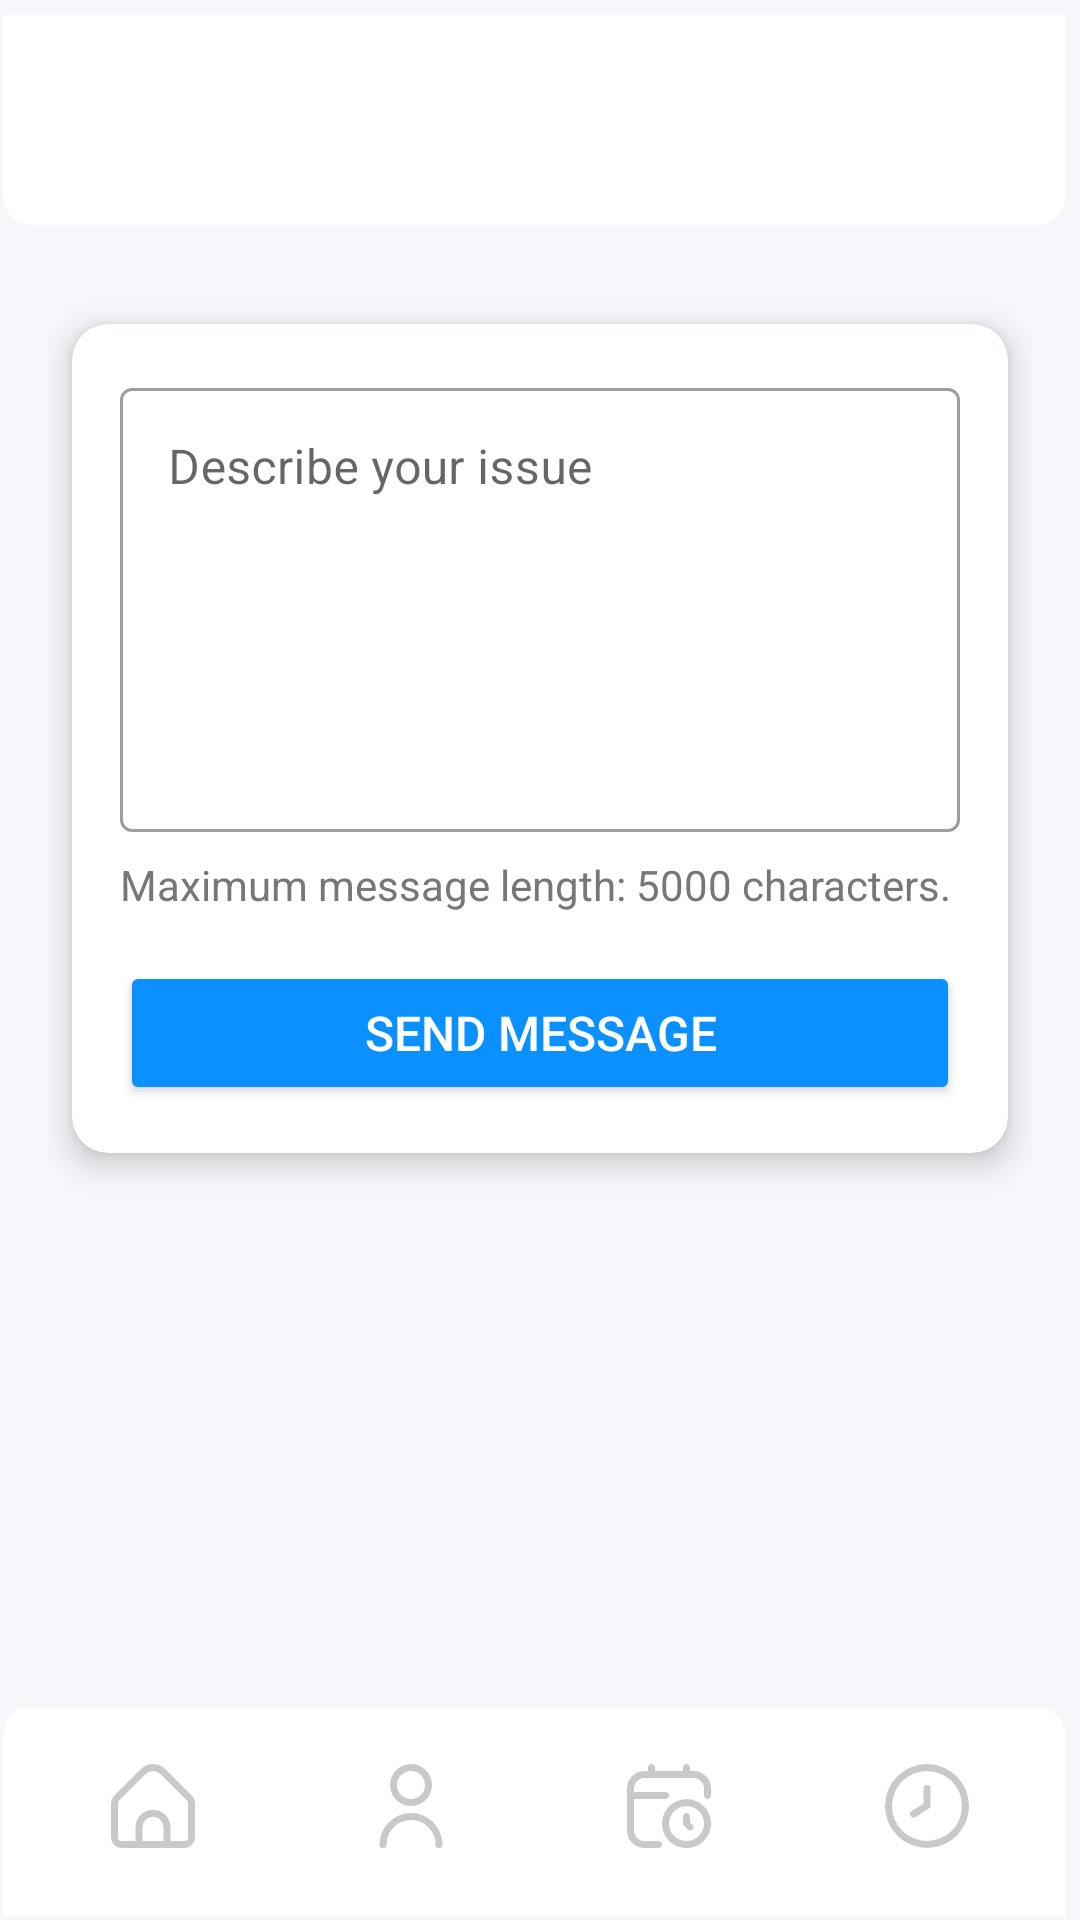

Named icons in this screenshot (1080w x 1920h) and their centers, [x,y]:
calendar clock: [669,1806]
clock: [927,1806]
home: [153,1806]
user: [411,1806]
